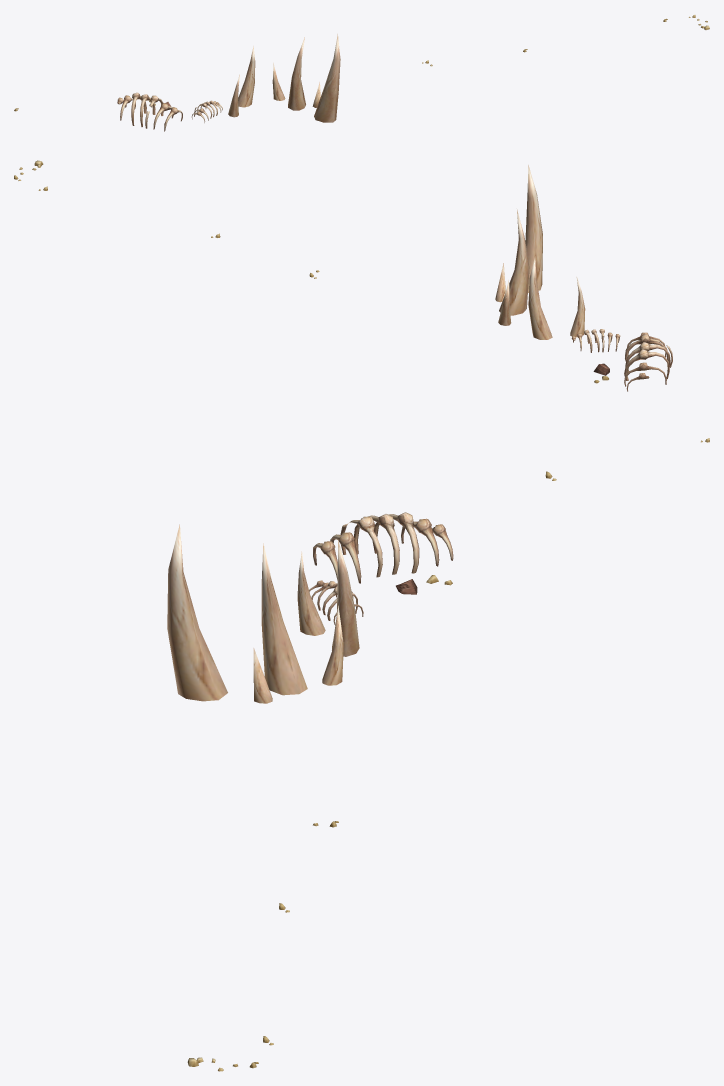
Rendered from area_03_25.fbx.
3 renders of one model, top to bottom at view 1: azimuth 30°, elevation 25°; view 2: azimuth 150°, elevation 25°; view 3: azimuth 270°, elevation 25°, orthographic. The views are drawn at different scales.
Parts seen in each view (by area): view 1: area_03_25; view 2: area_03_25; view 3: area_03_25.
Boxes of the visible parts, left/top/right/bottom form: area_03_25: left=14, top=15, right=709, bottom=131; area_03_25: left=14, top=160, right=709, bottom=442; area_03_25: left=167, top=471, right=556, bottom=1071.
Size of the model in its own units: 55.45 by 7.84 by 15.29.
